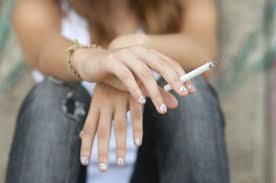smoke: (164, 60, 217, 92)
